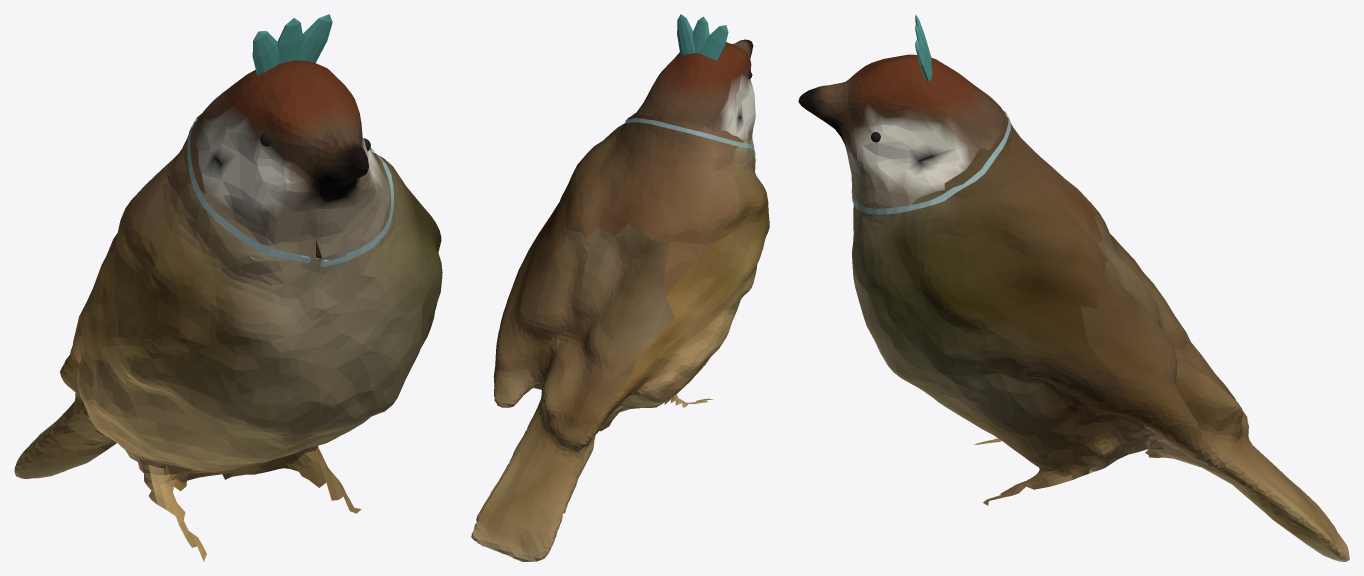
File: suzume.glb
3 renders of one model, left to right at view 1: azimuth 30°, elevation 25°; view 2: azimuth 150°, elevation 25°; view 3: azimuth 270°, elevation 25°, orthographic. The views are drawn at different scales.
Parts seen in each view (by area): view 1: suzume02, tuft0, mark; view 2: suzume02, tuft0, mark; view 3: suzume02, mark.
Boxes of the visible parts, box(x1,y1,x2,y2) form: suzume02: box(14, 60, 442, 561); tuft0: box(252, 14, 332, 75); mark: box(187, 113, 393, 266); suzume02: box(471, 39, 769, 561); tuft0: box(677, 14, 728, 60); mark: box(625, 117, 754, 148); suzume02: box(798, 54, 1349, 561); mark: box(851, 110, 1010, 214).
Size of the model in its own units: 0.1646 by 0.343 by 0.3292.
Materials: 5 (1 with a texture image).
